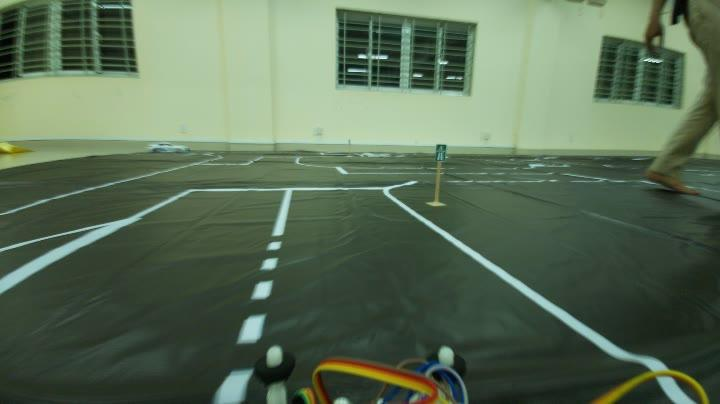highway_entry: (432, 140, 450, 164)
